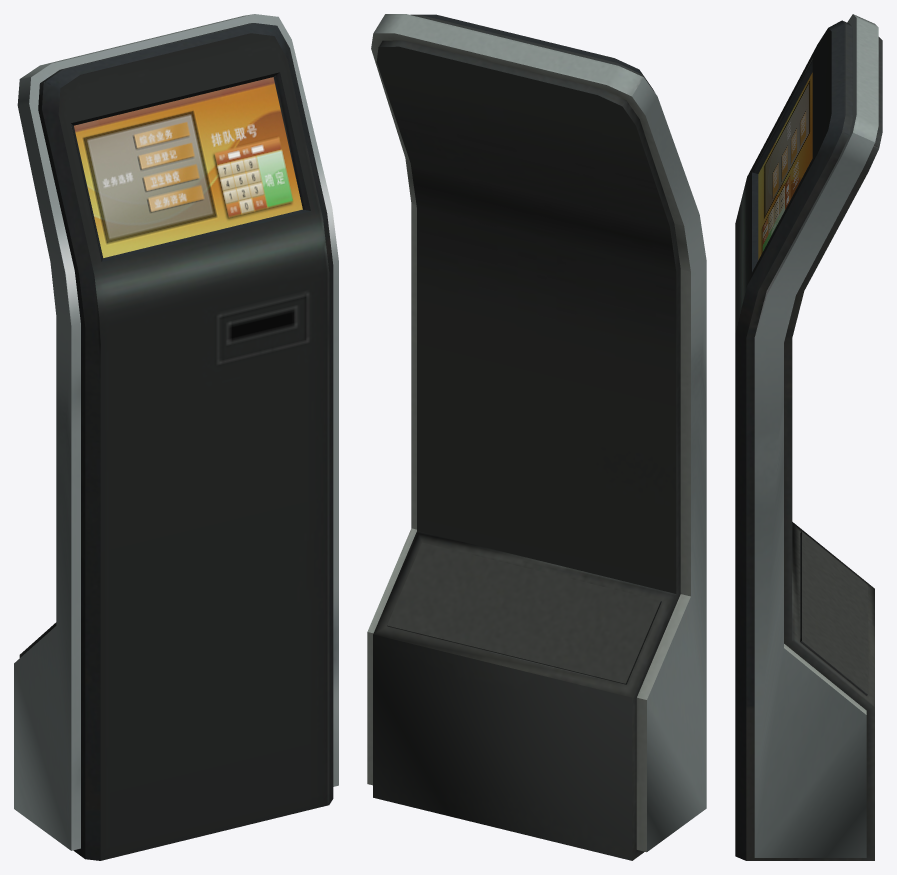
Rendered from 3DGJ_JYJY_jq_xp_wmr.FBX.
The picture shows the model from 3 angles, left to right: view 1: azimuth 30°, elevation 25°; view 2: azimuth 150°, elevation 25°; view 3: azimuth 270°, elevation 25°; orthographic projection. The views are drawn at different scales.
Visible parts, largest first — view 1: 3DGJ_JYJY_jq_xp_wmr; view 2: 3DGJ_JYJY_jq_xp_wmr; view 3: 3DGJ_JYJY_jq_xp_wmr.
Boxes of the visible parts, box(x1,y1,x2,y2) form: 3DGJ_JYJY_jq_xp_wmr: box(14, 14, 338, 860); 3DGJ_JYJY_jq_xp_wmr: box(367, 14, 706, 860); 3DGJ_JYJY_jq_xp_wmr: box(735, 14, 882, 860).
Bounding box in the file's own units: 0.55 × 1.47 × 0.2676.
